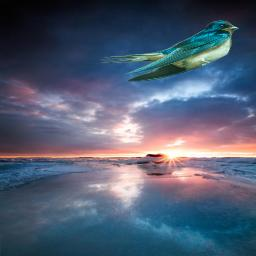Swallow: (100, 20, 239, 82)
